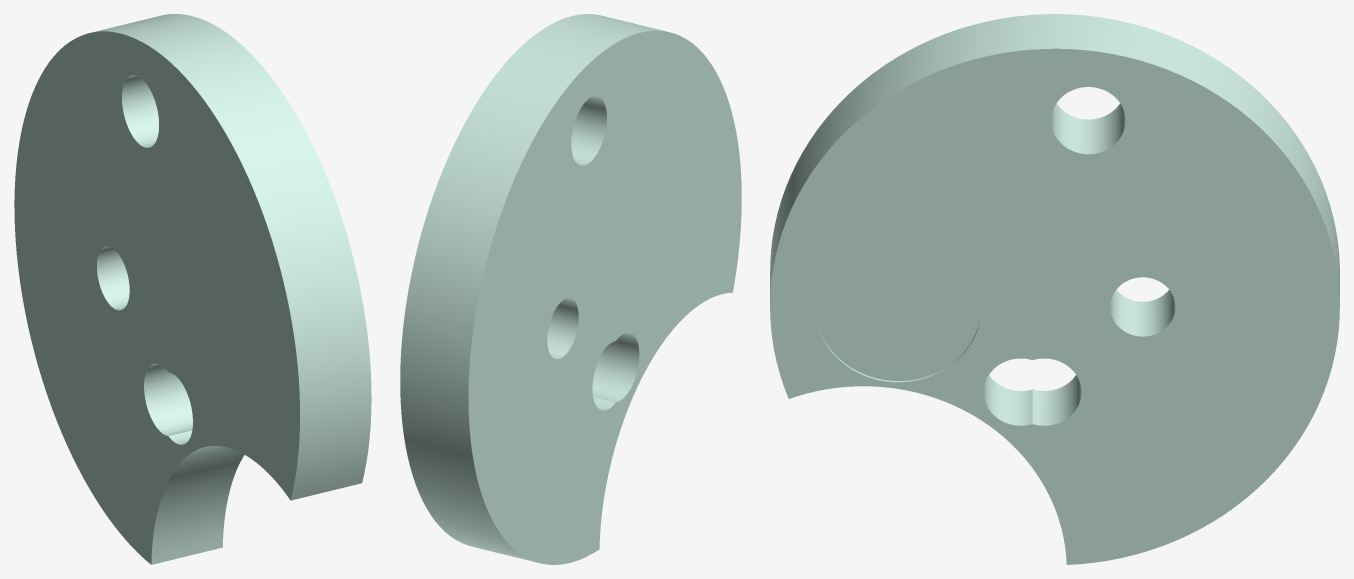
3 renders of one model, left to right at view 1: azimuth 30°, elevation 25°; view 2: azimuth 150°, elevation 25°; view 3: azimuth 270°, elevation 25°, orthographic. The views are drawn at different scales.
Parts seen in each view (by area): view 1: Renderer Node; view 2: Renderer Node; view 3: Renderer Node.
Boxes of the visible parts, box(x1,y1,x2,y2) form: Renderer Node: box(14, 14, 371, 564); Renderer Node: box(400, 14, 741, 564); Renderer Node: box(770, 14, 1339, 564).
Bounding box in the file's own units: 0.2188 × 1.52 × 1.52.
